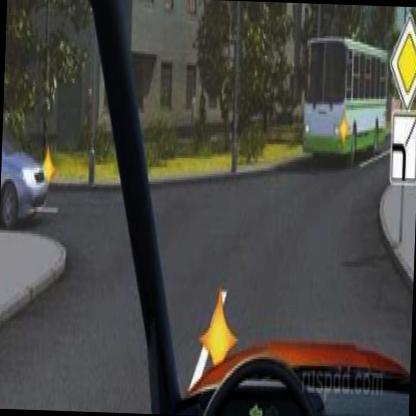obstructed_road_sign: (387, 14, 415, 109)
road_sign: (391, 111, 416, 181)
